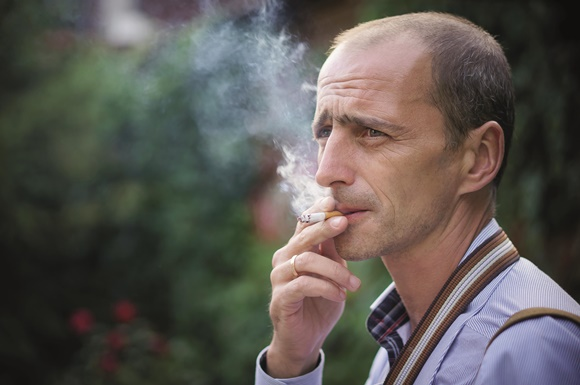cigarette: (294, 203, 353, 229)
